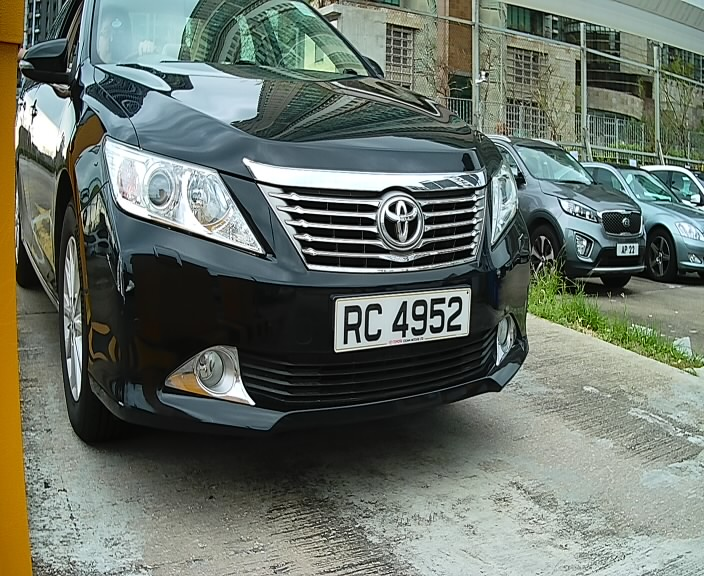License Plate: (328, 284, 475, 359)
